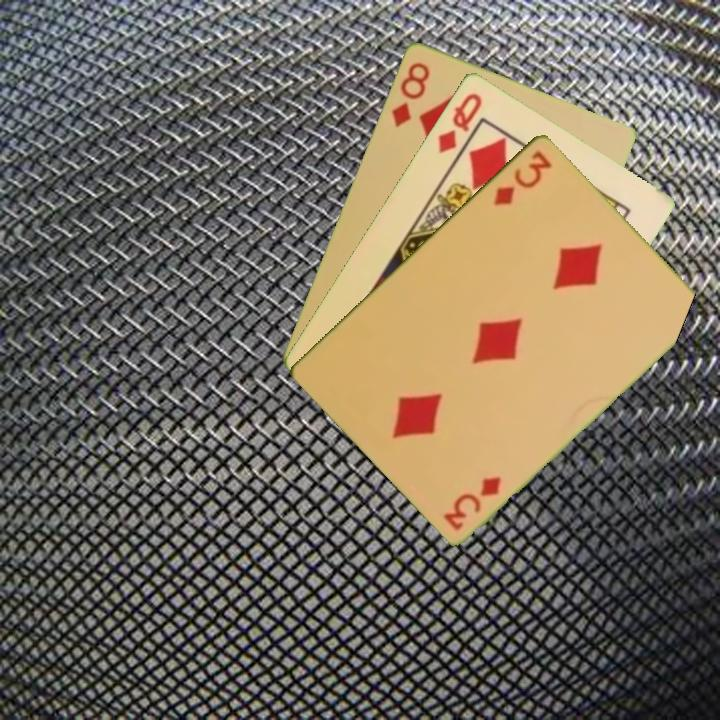3d: (490, 146, 555, 209), (439, 472, 504, 533)
8d: (387, 58, 433, 130)
Qd: (434, 88, 485, 156)
